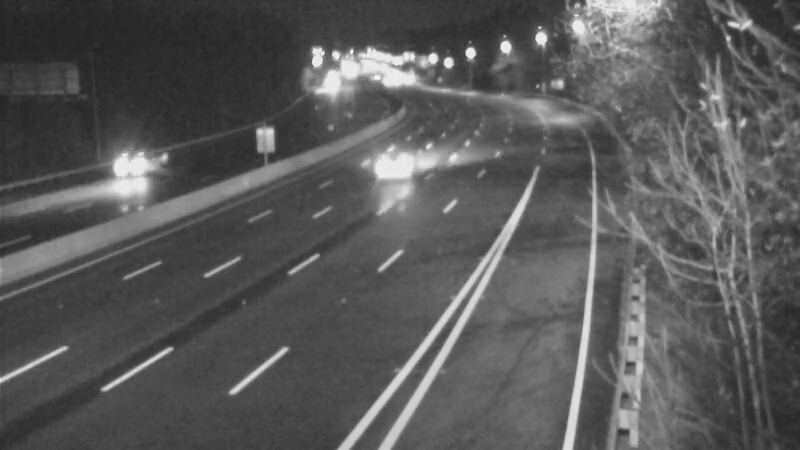vehicle: (349, 122, 429, 202), (97, 127, 177, 207)
